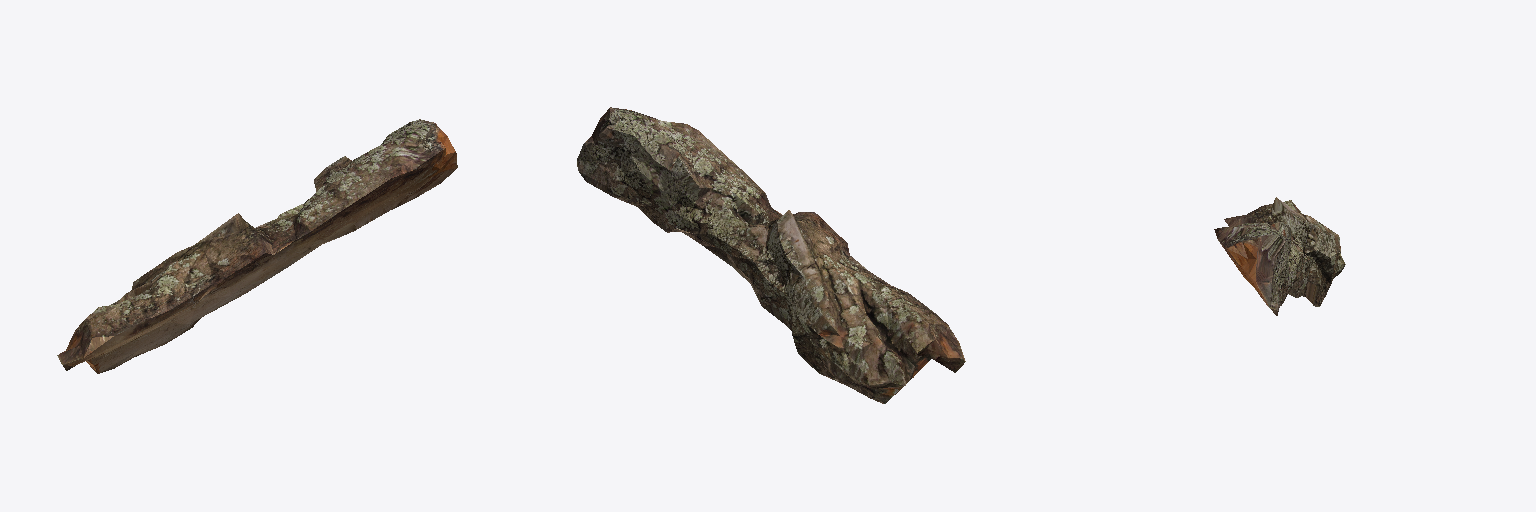
3 renders of one model, left to right at view 1: azimuth 30°, elevation 25°; view 2: azimuth 150°, elevation 25°; view 3: azimuth 270°, elevation 25°, orthographic.
Bounding box in the file's own units: 9.37 × 4.55 × 2.72.
Materials: 1 (1 with a texture image).